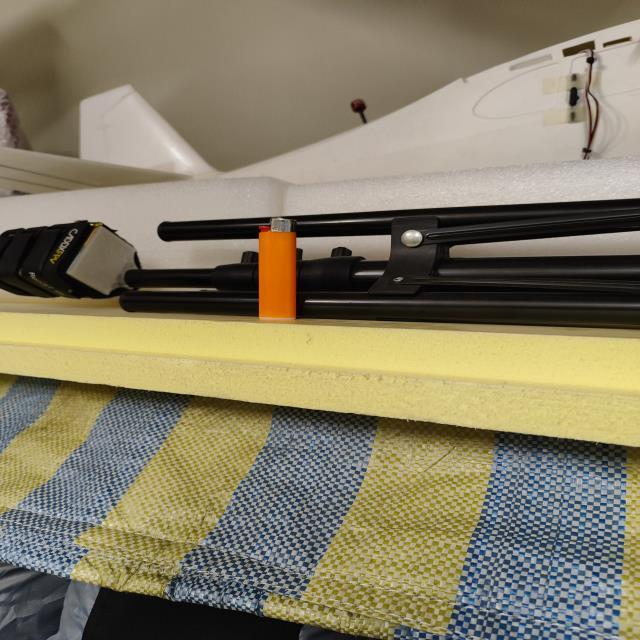lighter: (259, 218, 297, 321)
